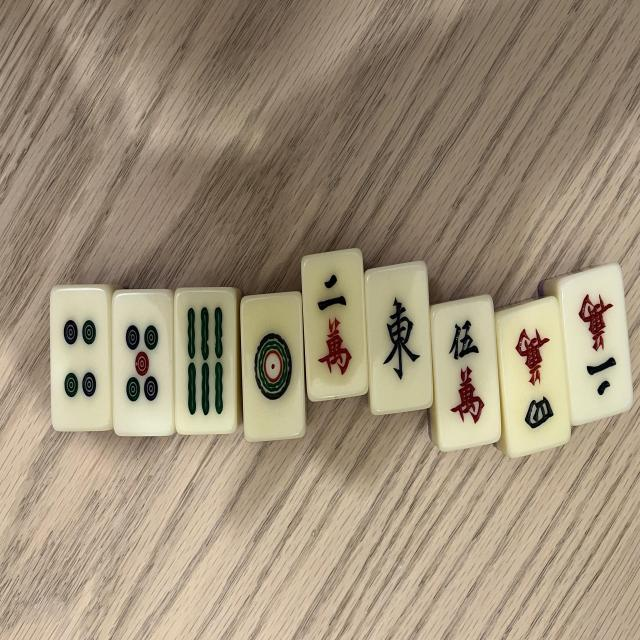east: (368, 267, 434, 419)
m2: (556, 266, 632, 426), (304, 255, 369, 403)
m4: (496, 296, 569, 456)
m5: (434, 297, 503, 450)
s4: (176, 290, 238, 433)
t1: (241, 294, 304, 442)
t4: (50, 289, 110, 433)
t5: (113, 293, 175, 437)
